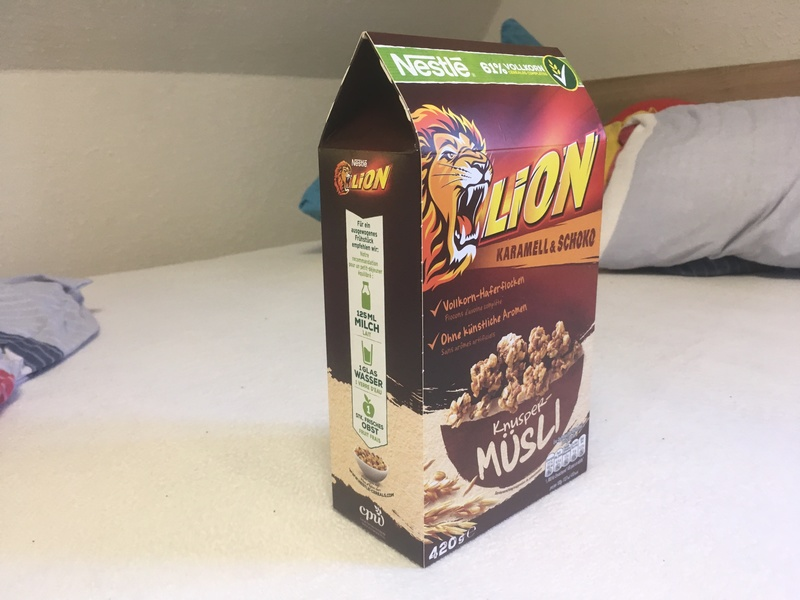cereals: (317, 31, 606, 566)
